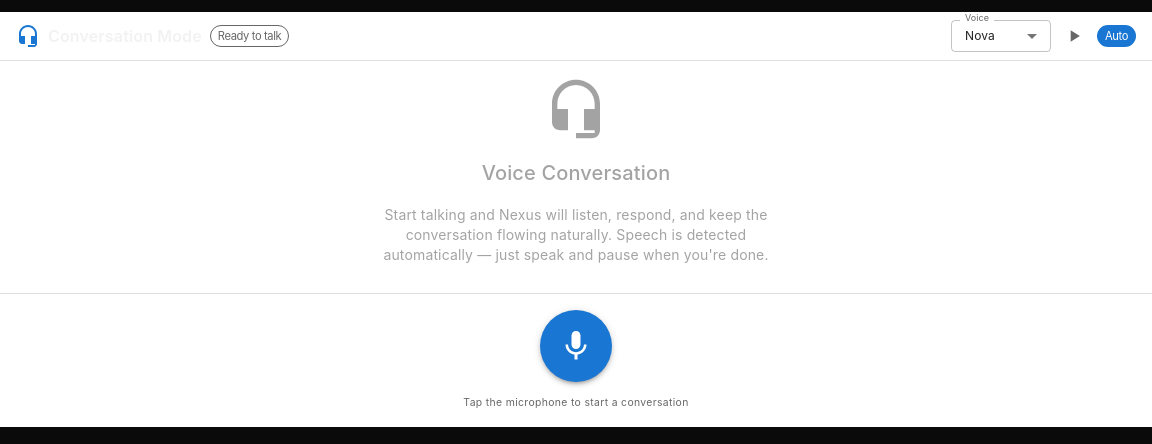
Test: ConversationMode — Interactions › toggles auto-listen between Auto and Manual
Expected: the text "Auto" is shown, [1105, 29, 1128, 43]
Click the button "Auto" at coordinates (1116, 36), box [1097, 25, 1136, 47]
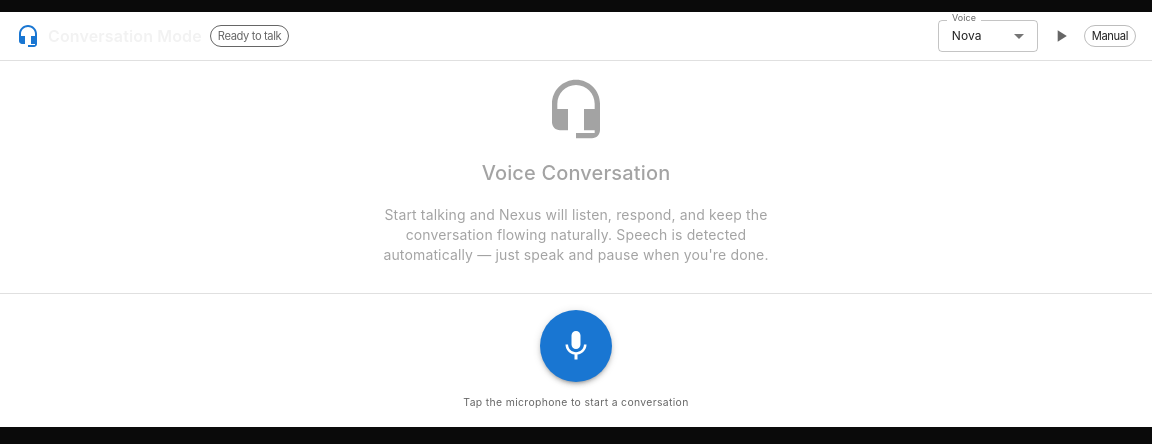
Expected: the text "Manual" is shown, [1092, 29, 1128, 43]
